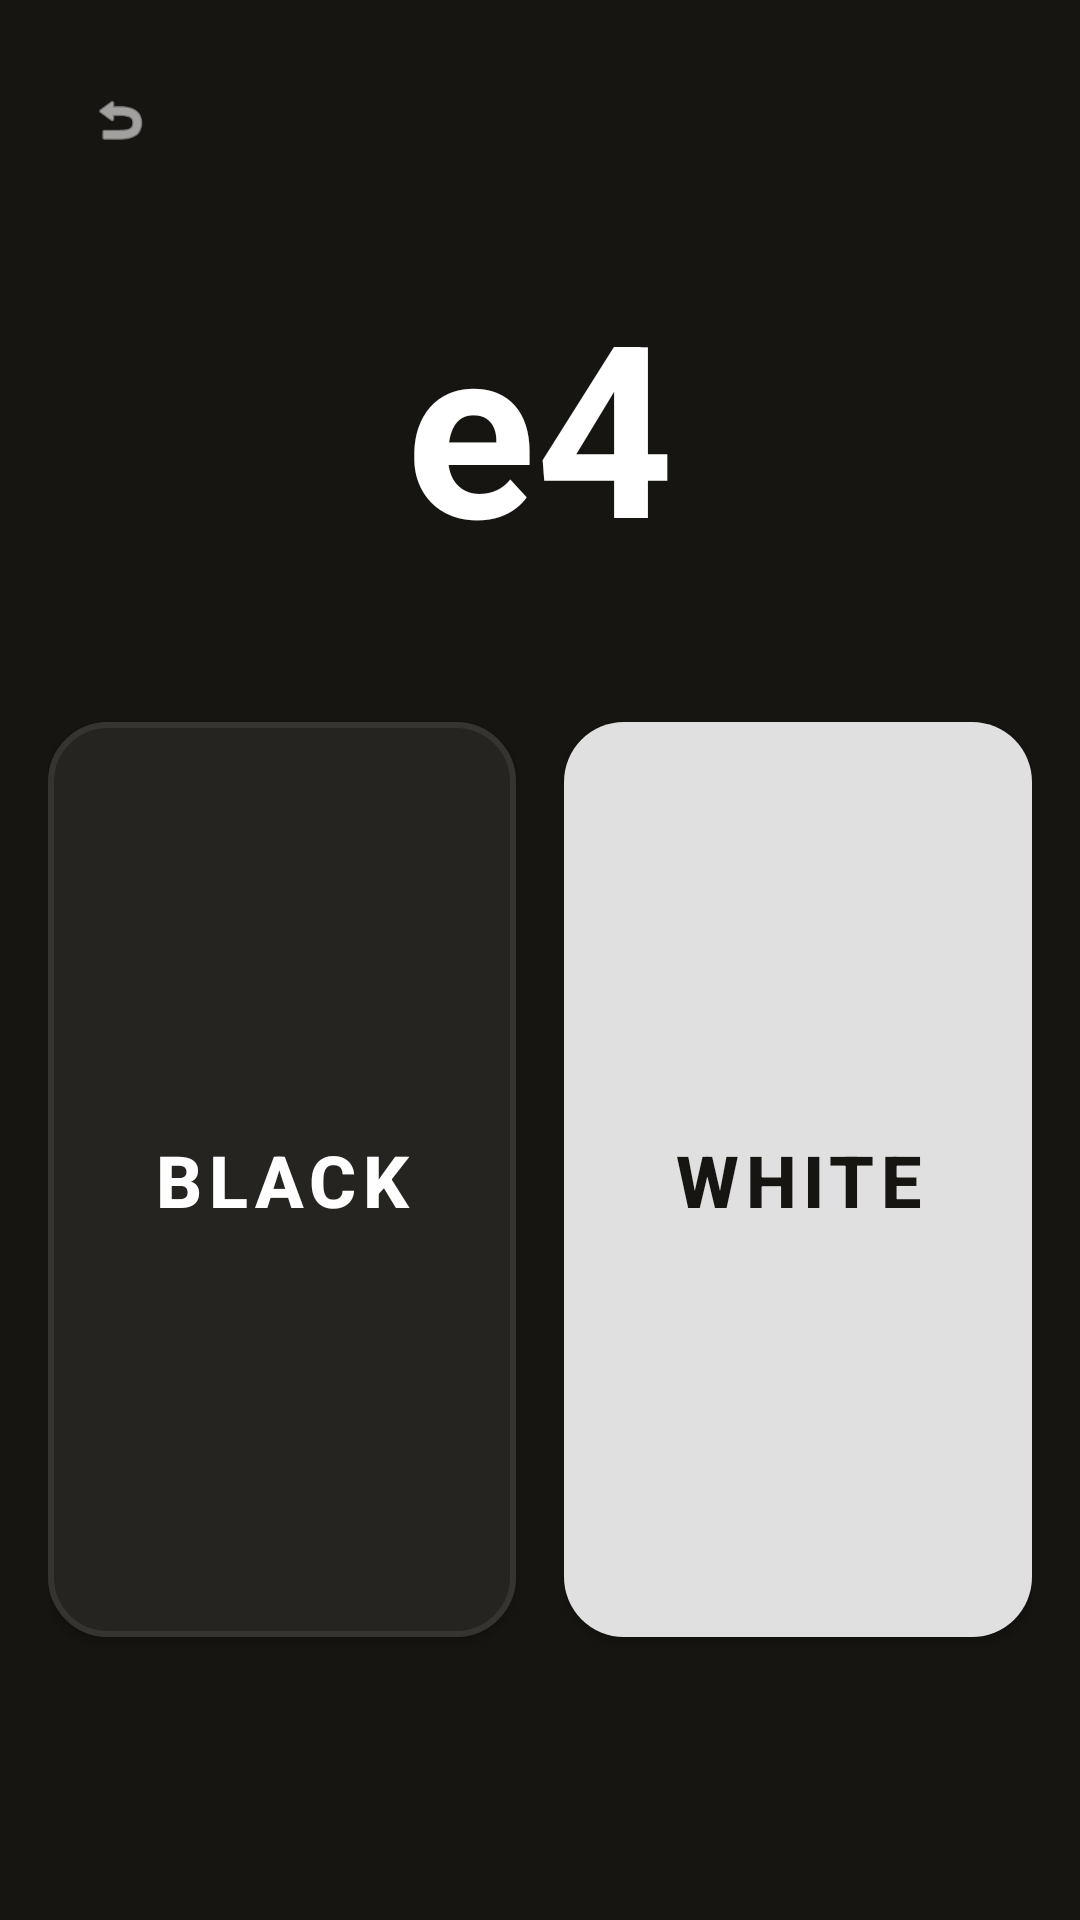

Where icons sit on this 1080px×1920px app screen, as [left=x1, top=y1, right=x2, bottom=y2]:
Back: [left=99, top=101, right=142, bottom=140]
